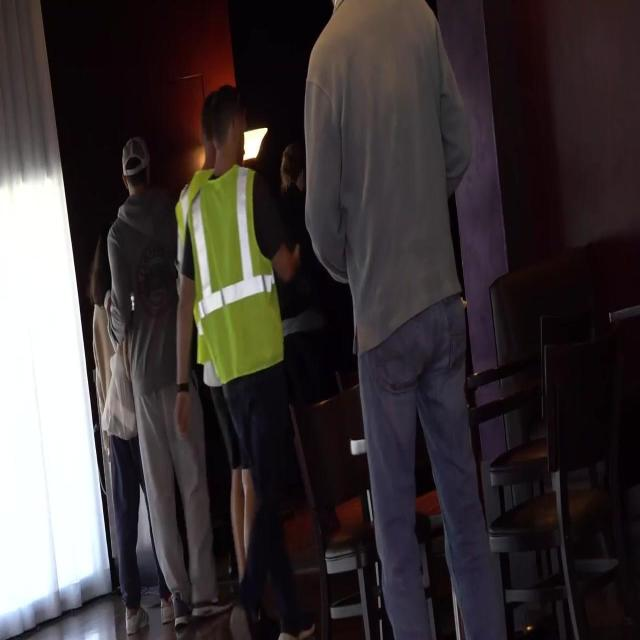Vest: (188, 165, 284, 388), (173, 162, 216, 365)
